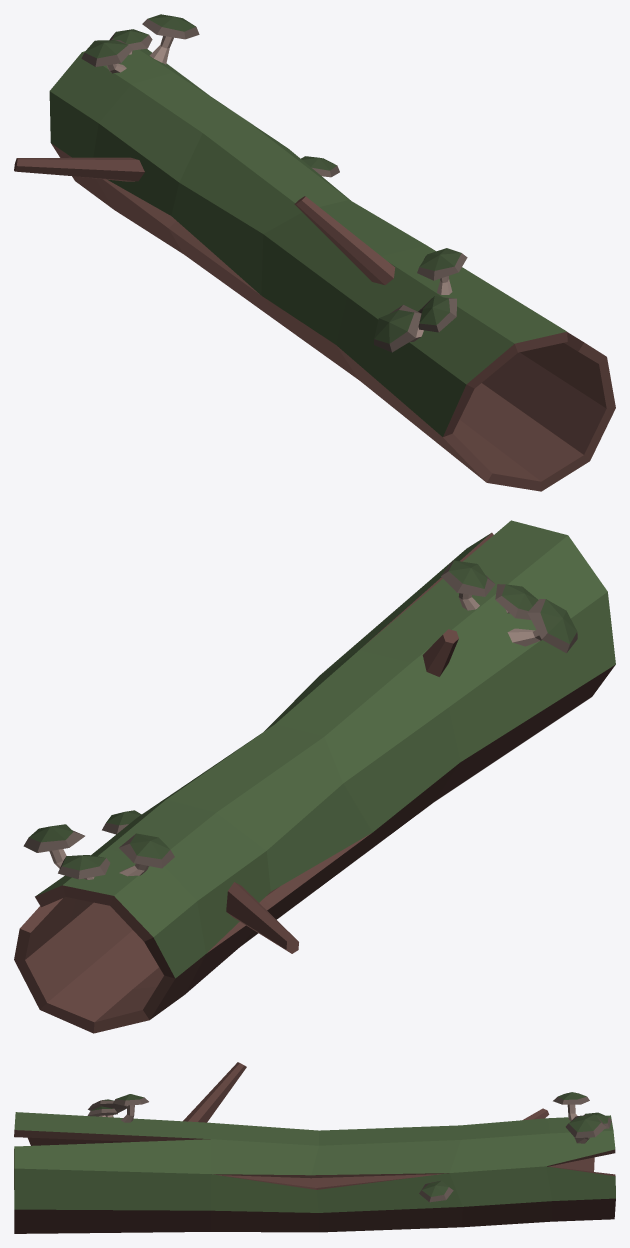
The model's file is WoodLog_Moss.gltf.
3 views of the same model, one above another, from view 1: azimuth 30°, elevation 25°; view 2: azimuth 150°, elevation 25°; view 3: azimuth 270°, elevation 25° (orthographic). The views are drawn at different scales.
Visible parts, largest first — view 1: WoodLog_Moss; view 2: WoodLog_Moss; view 3: WoodLog_Moss.
Part boxes in pixels (left/top/right/bottom): WoodLog_Moss: left=14, top=14, right=615, bottom=491; WoodLog_Moss: left=14, top=520, right=615, bottom=1033; WoodLog_Moss: left=14, top=1062, right=615, bottom=1233.
Bounding box in the file's own units: 0.8966 × 0.6883 × 2.67.
